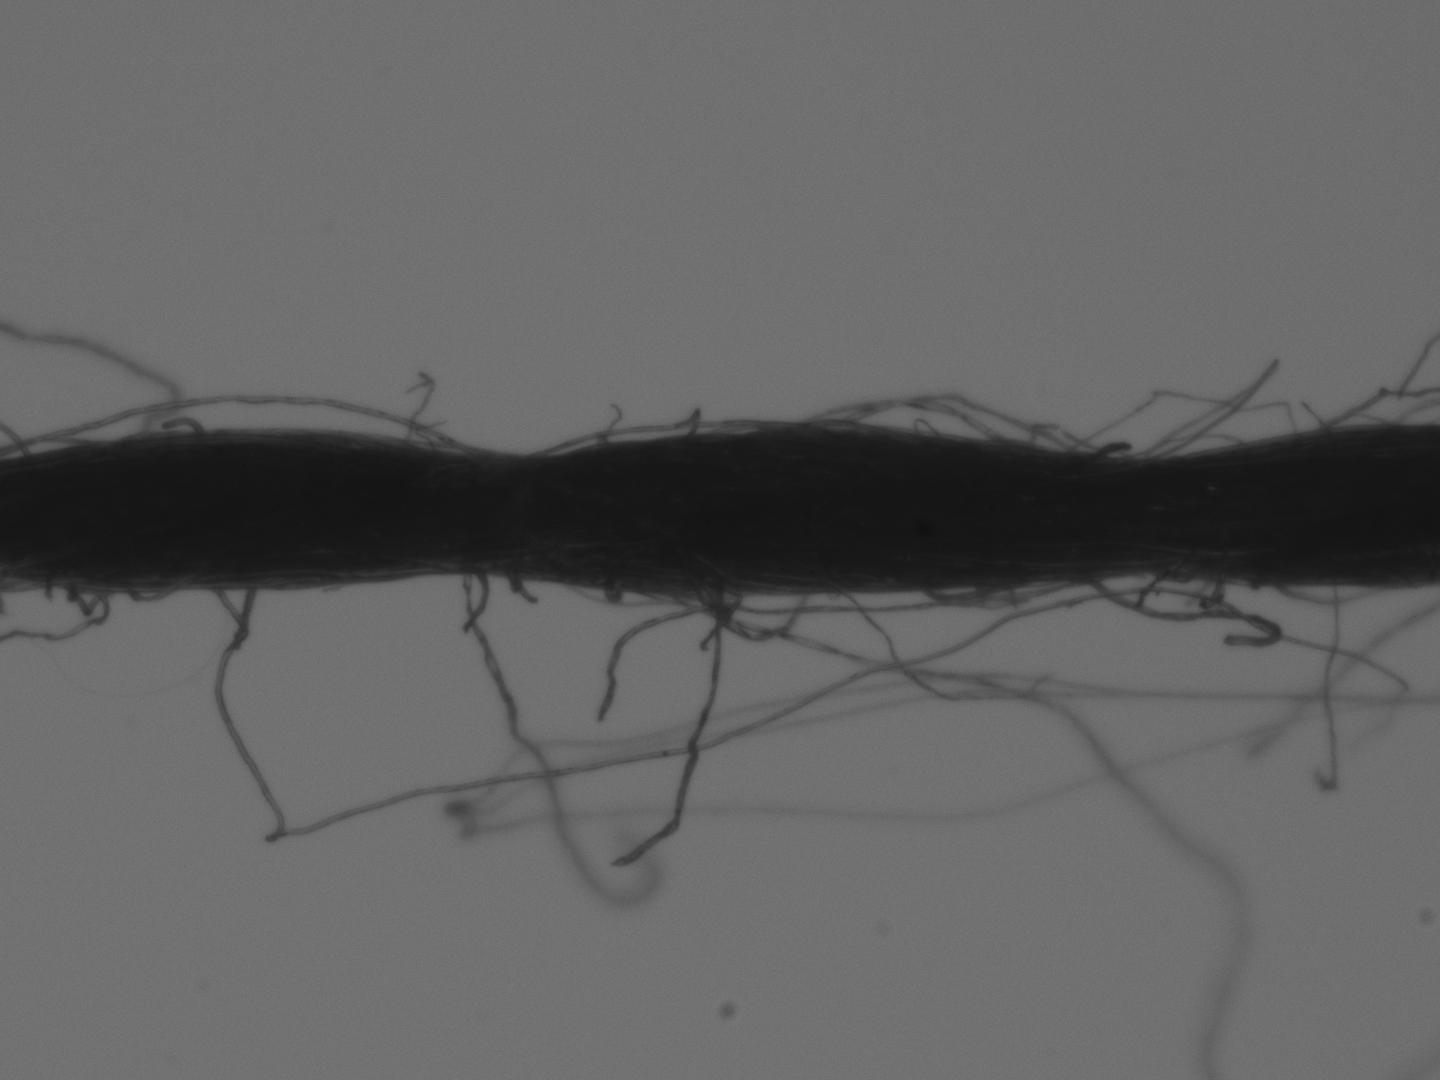loop_fiber: (206, 534, 1243, 852), (0, 387, 501, 467), (816, 388, 1098, 472), (522, 415, 795, 463), (48, 567, 211, 626), (693, 574, 819, 649), (905, 566, 1086, 615), (1248, 575, 1392, 608)
protruding_fiber: (608, 582, 736, 875), (1315, 577, 1347, 798)
